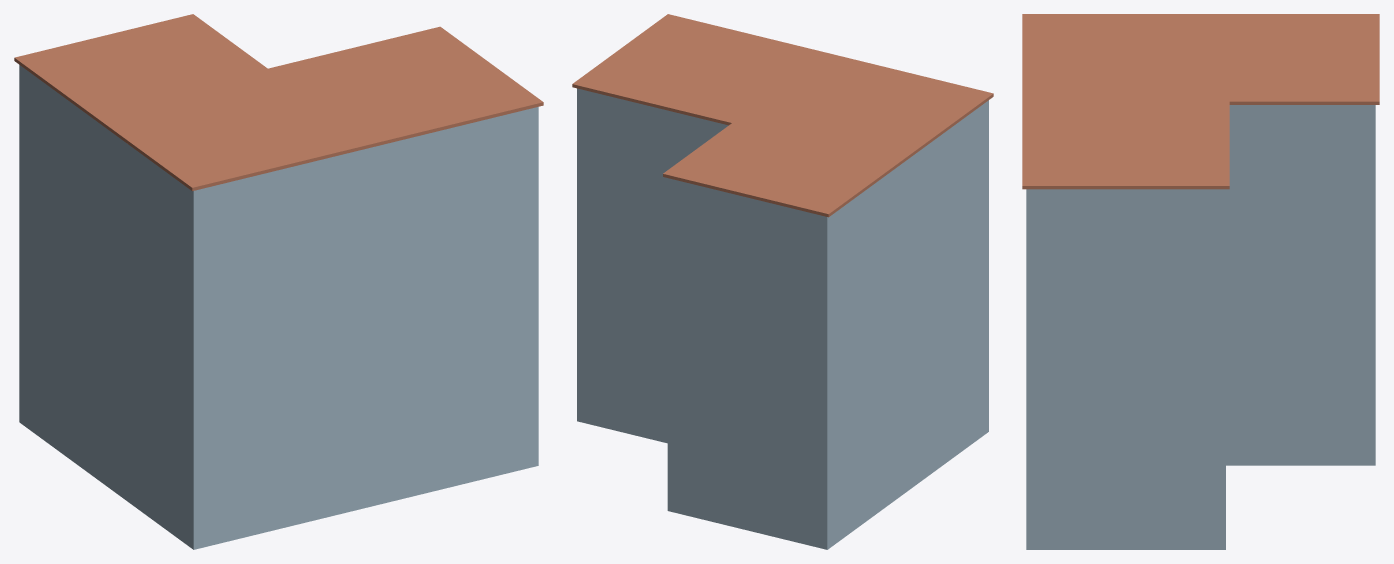
The model's file is building.glb.
3 views of the same model, side by side, from view 1: azimuth 30°, elevation 25°; view 2: azimuth 150°, elevation 25°; view 3: azimuth 270°, elevation 25° (orthographic). The views are drawn at different scales.
Parts seen in each view (by area): view 1: A05; view 2: A05; view 3: A05.
Boxes of the visible parts, left/top/right/bottom form: A05: left=14, top=14, right=543, bottom=549; A05: left=572, top=14, right=993, bottom=549; A05: left=1022, top=14, right=1379, bottom=549.
Bounding box in the file's own units: 16.3 × 16.15 × 14.3.
